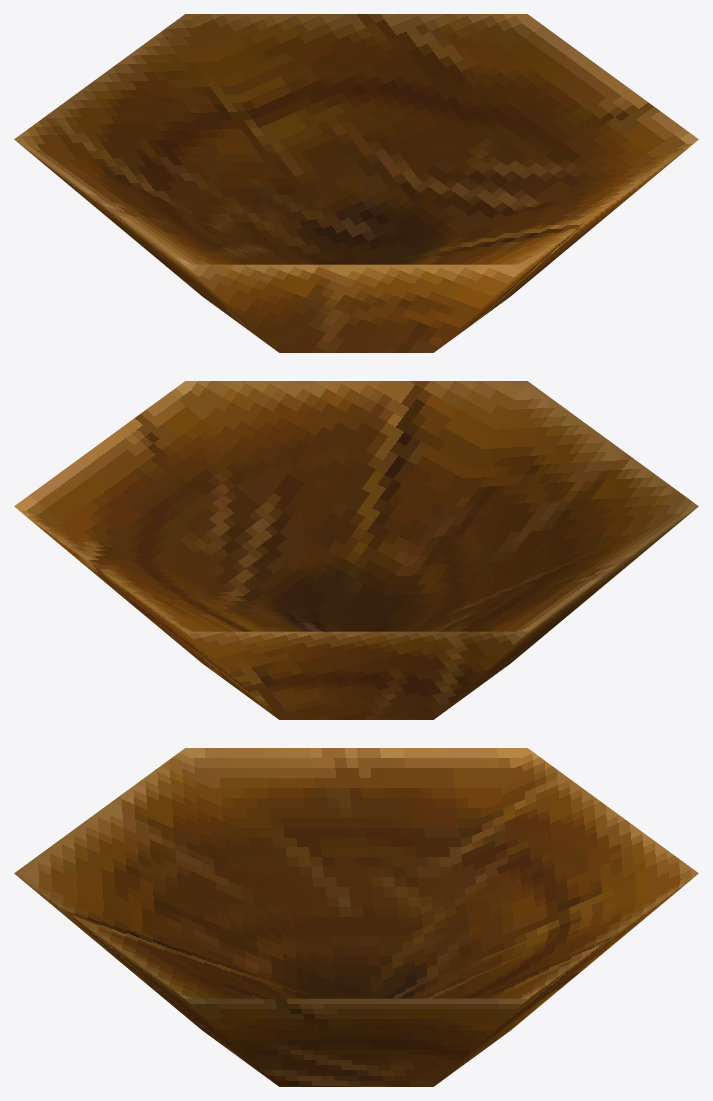
Rendered from bowlwood02.obj.
3 renders of one model, top to bottom at view 1: azimuth 30°, elevation 25°; view 2: azimuth 150°, elevation 25°; view 3: azimuth 270°, elevation 25°, orthographic.
Visible parts, largest first — view 1: BOWLWOOD020; view 2: BOWLWOOD020; view 3: BOWLWOOD020.
Boxes of the visible parts, x1,y1,x2,y2 form: BOWLWOOD020: [14, 14, 698, 352]; BOWLWOOD020: [14, 381, 698, 719]; BOWLWOOD020: [14, 748, 698, 1086].
Size of the model in its own units: 0.608 by 0.1776 by 0.702.
1 material, 1 textured.
